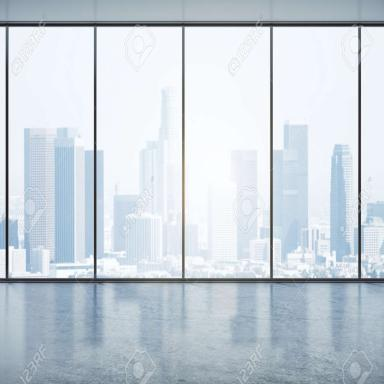glass_panel: (275, 27, 359, 276), (9, 28, 93, 275), (186, 28, 269, 275), (100, 28, 181, 274), (362, 28, 384, 276), (0, 28, 6, 266)
